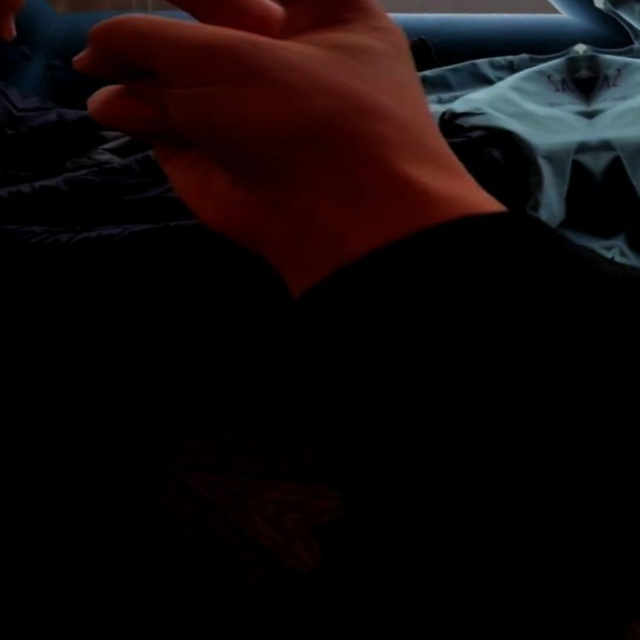Scissors: (0, 0, 132, 201)
